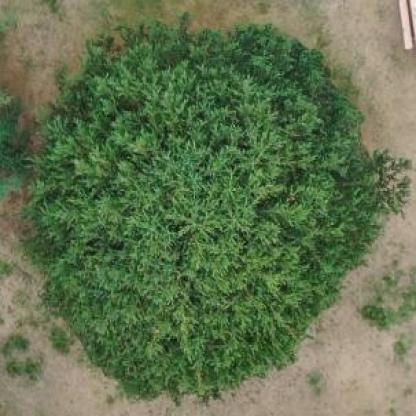Coniferous Tree: (38, 14, 412, 396)
